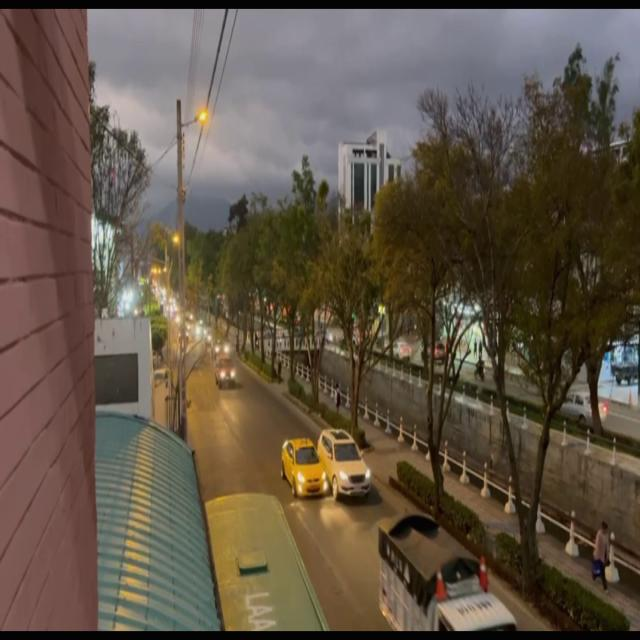SED: (282, 441, 323, 495)
SUV: (324, 430, 371, 496)
TRUCK: (378, 526, 511, 633)
